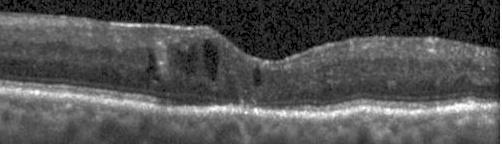intraretinal_cyst: (167, 44, 199, 77), (202, 41, 220, 81), (146, 48, 161, 82), (252, 65, 262, 87)
